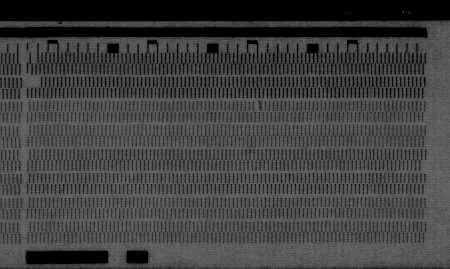Broken hole: (26, 75, 43, 87), (417, 159, 428, 173), (28, 52, 39, 65)
Oblique printing: (251, 100, 265, 114), (23, 64, 34, 78)
